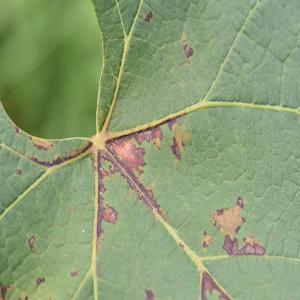Folha: (0, 0, 299, 299)
Fungo: (201, 195, 266, 256), (210, 195, 245, 241), (110, 135, 146, 177), (167, 115, 191, 164), (222, 231, 266, 256), (132, 125, 163, 149), (180, 30, 193, 64), (170, 135, 182, 161), (91, 132, 106, 152), (201, 230, 213, 248), (35, 276, 45, 290), (28, 235, 35, 252), (236, 195, 244, 209), (143, 11, 153, 22), (144, 289, 154, 299), (180, 30, 187, 43), (70, 269, 79, 277), (16, 169, 21, 175)
